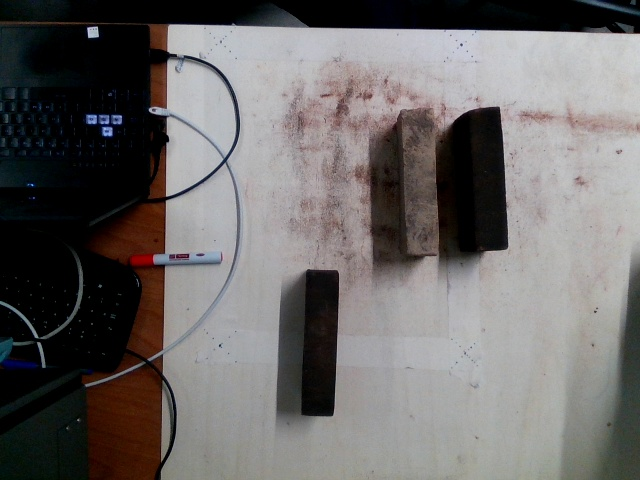brick-side: (399, 110, 440, 252), (304, 274, 339, 415), (473, 108, 506, 250)
